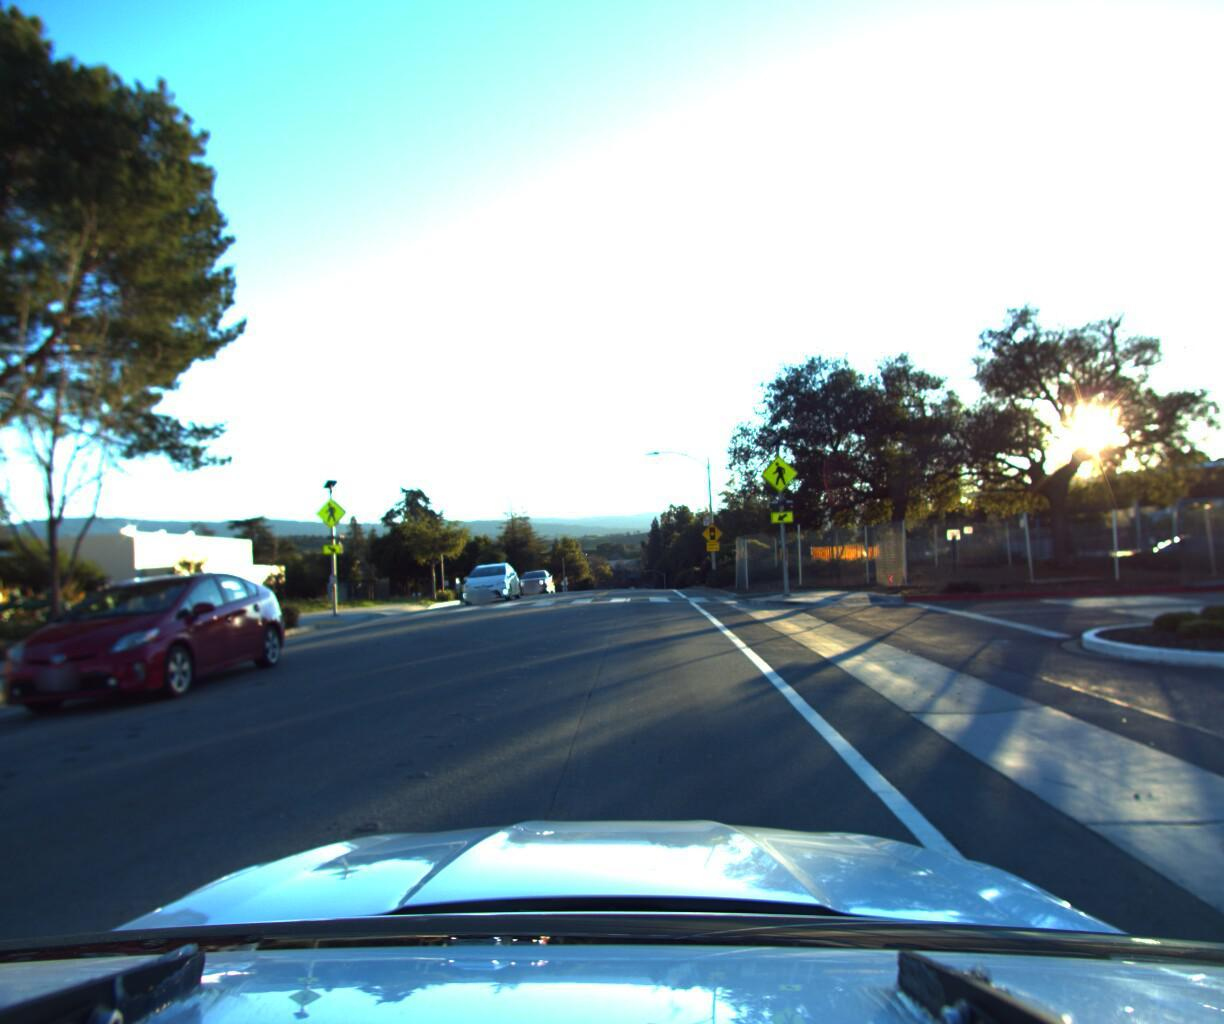car: (0, 567, 295, 737), (460, 557, 526, 601), (515, 562, 557, 592)
